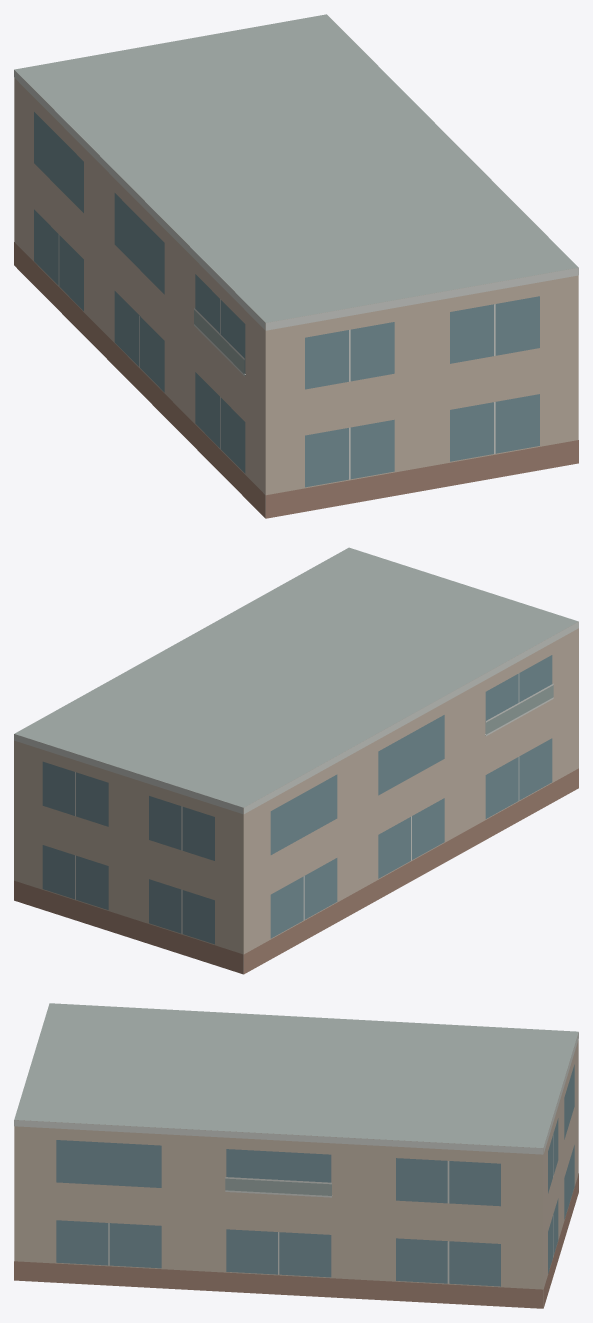
Rendered from survey-upis-32636148.glb.
3 renders of one model, top to bottom at view 1: azimuth 30°, elevation 25°; view 2: azimuth 150°, elevation 25°; view 3: azimuth 270°, elevation 25°, orthographic. The views are drawn at different scales.
Parts seen in each view (by area): view 1: survey-upis-32636148.tmp; view 2: survey-upis-32636148.tmp; view 3: survey-upis-32636148.tmp.
Boxes of the visible parts, x1,y1,x2,y2 form: survey-upis-32636148.tmp: [14, 14, 578, 518]; survey-upis-32636148.tmp: [14, 547, 578, 974]; survey-upis-32636148.tmp: [14, 1003, 578, 1308].
Bounding box in the file's own units: 11.82 × 6.1 × 19.45.
